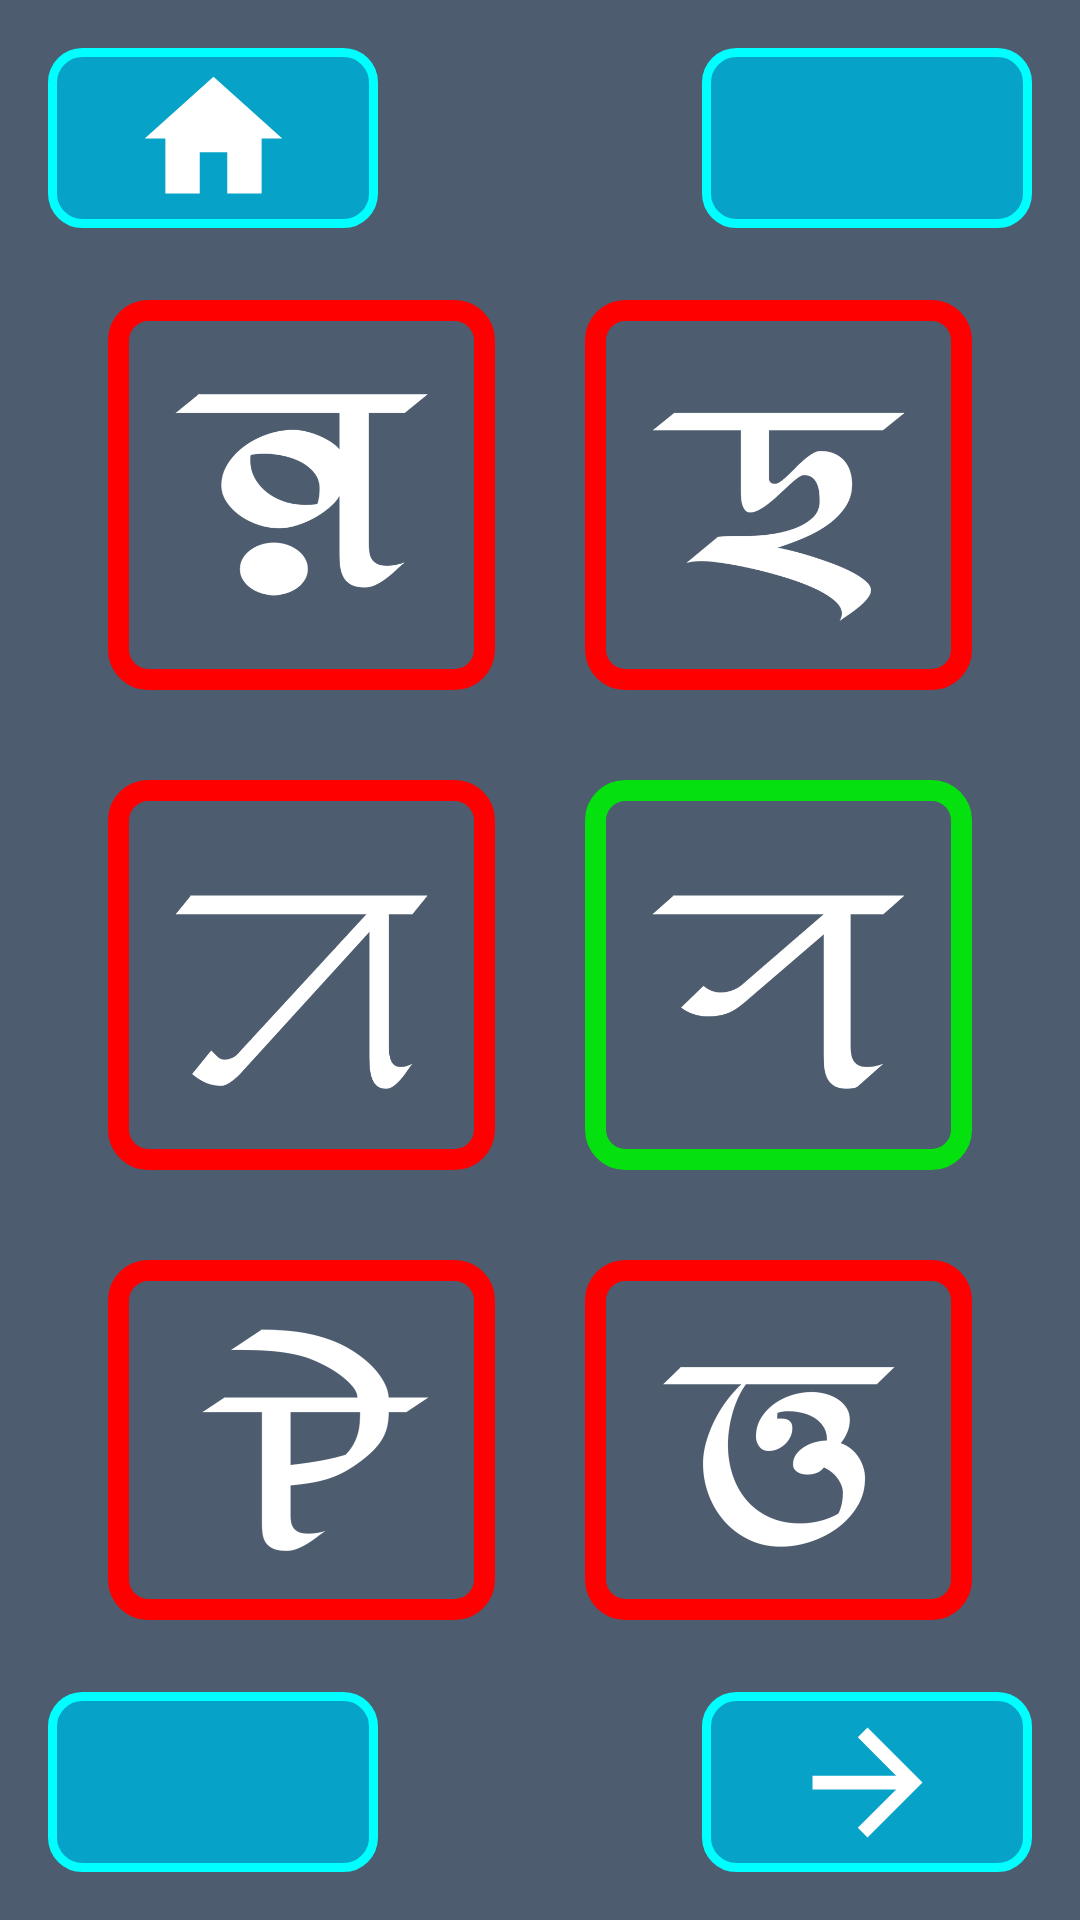

Where icons sit on this 1080 x 1920 app screen, as (x1,y1,x2,y2):
arrow forward: (702,1692,1032,1872)
home: (48,48,378,228)
